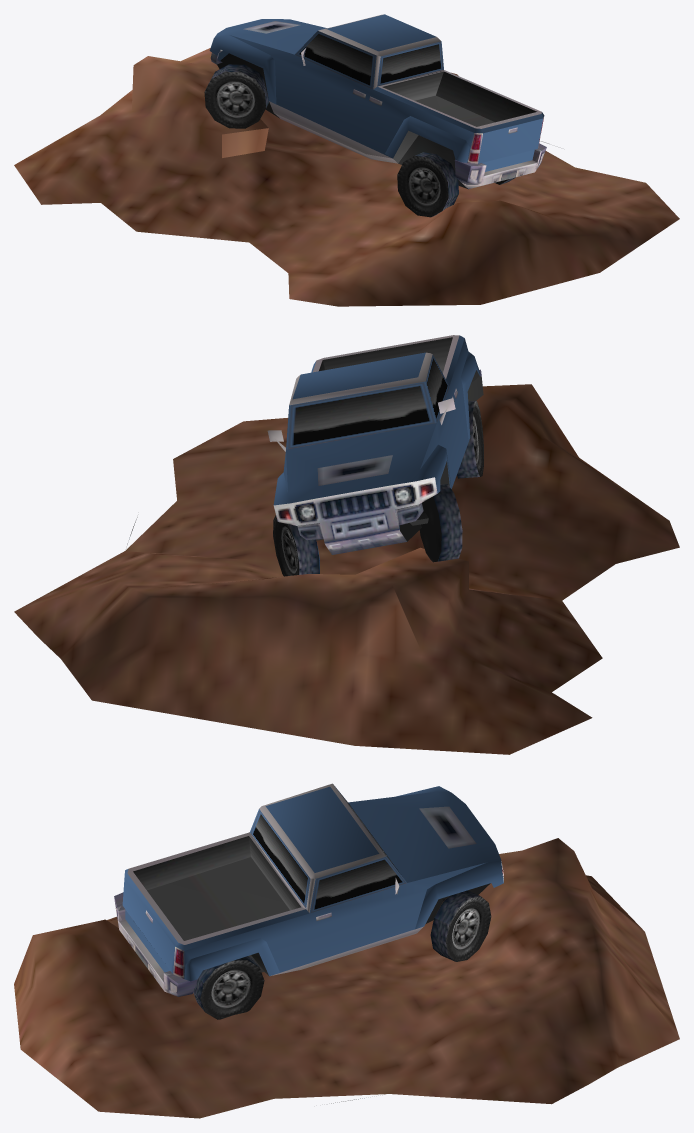
Rendered from iconlst.icn.obj.
3 views of the same model, one above another, from view 1: azimuth 30°, elevation 25°; view 2: azimuth 150°, elevation 25°; view 3: azimuth 270°, elevation 25° (orthographic). The views are drawn at different scales.
Bounding box in the file's own units: 3.71 × 1.32 × 4.09.
Materials: 1 (1 with a texture image).
